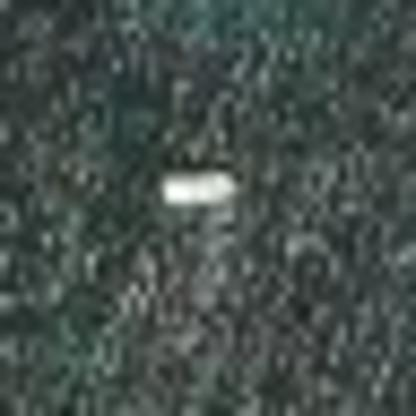ship: (145, 162, 252, 210)
